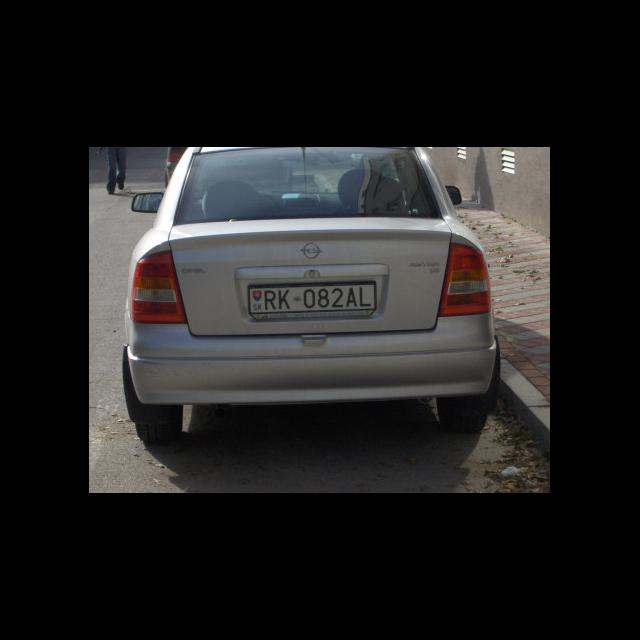Plate: (246, 278, 378, 317)
